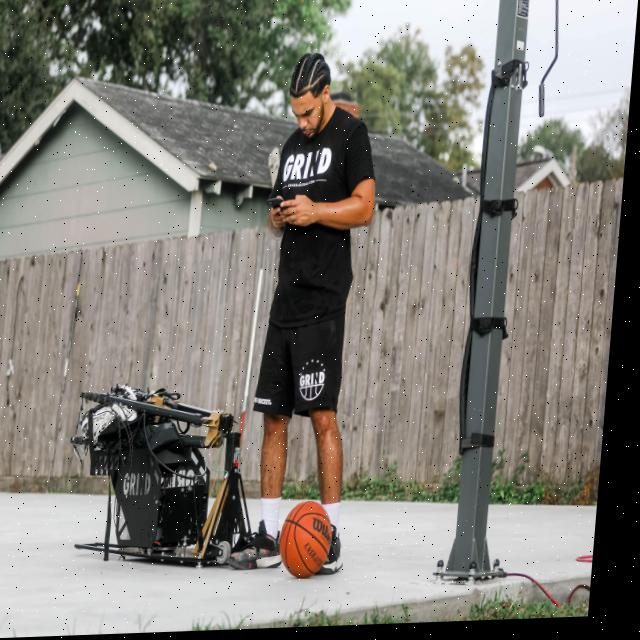basketball: (277, 500, 335, 579)
